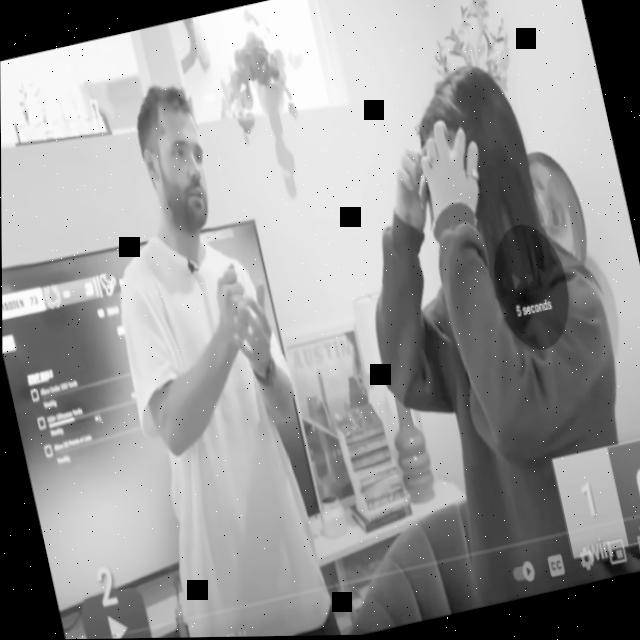Rock: (209, 261, 261, 358)
